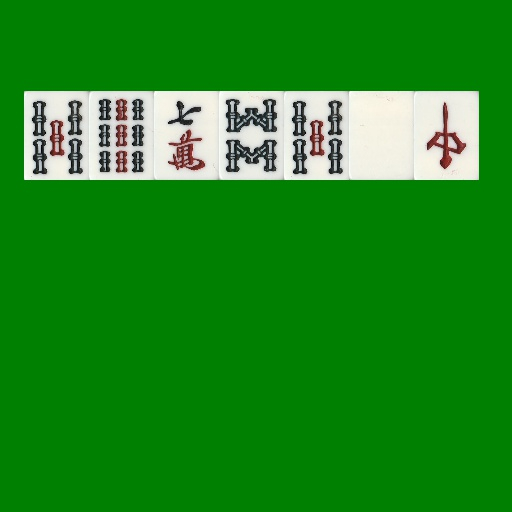5s: (24, 91, 89, 180), (284, 91, 349, 180)
7m: (154, 91, 219, 180)
8s: (219, 91, 284, 180)
9s: (89, 91, 154, 180)
tyun: (414, 91, 479, 180)
white: (349, 91, 414, 180)
